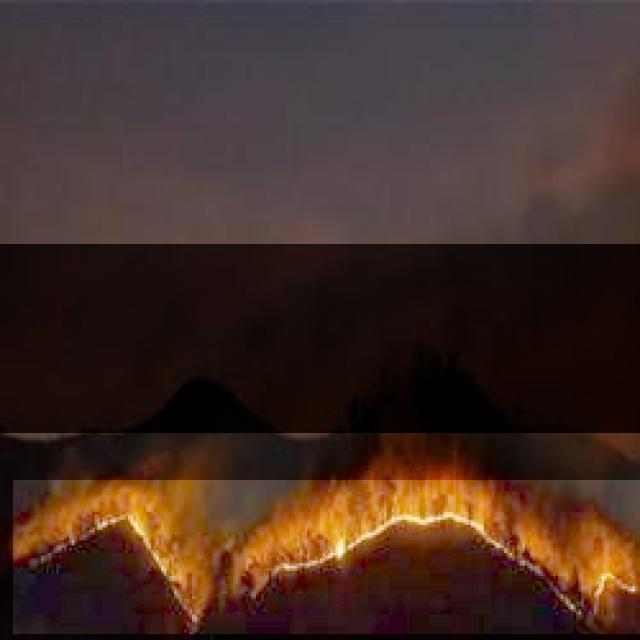Fire: (13, 480, 640, 634)
Smoke: (0, 244, 640, 433)
